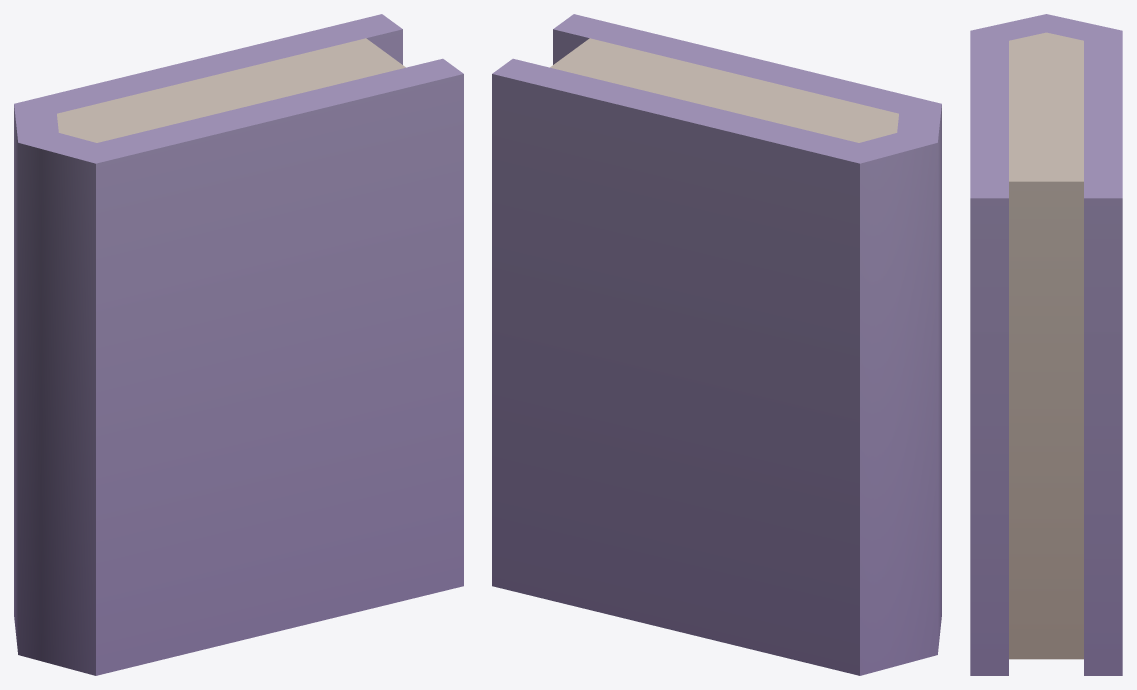
The model's file is book.glb.
The picture shows the model from 3 angles, left to right: view 1: azimuth 30°, elevation 25°; view 2: azimuth 150°, elevation 25°; view 3: azimuth 270°, elevation 25°; orthographic projection. The views are drawn at different scales.
Visible parts, largest first — view 1: book; view 2: book; view 3: book.
Boxes of the visible parts, left/top/right/bottom form: book: left=14, top=14, right=463, bottom=675; book: left=492, top=14, right=941, bottom=675; book: left=970, top=14, right=1122, bottom=675.
Size of the model in its own units: 0.22 by 0.266 by 0.077.
